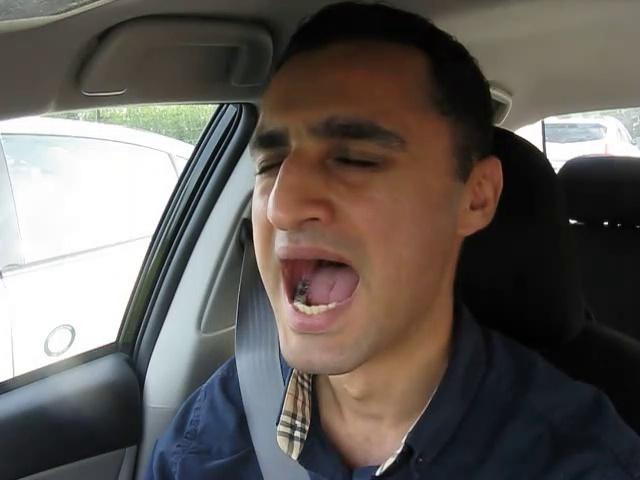close_eyeL: (243, 142, 294, 188)
close_eyeR: (309, 136, 404, 189)
yawn: (266, 238, 379, 334)
